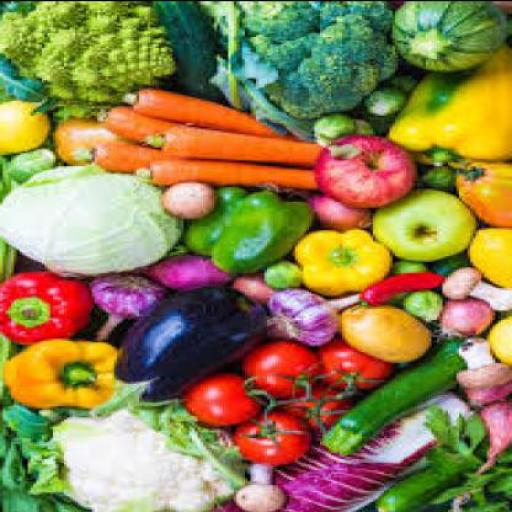biodegradable: (200, 385, 476, 510), (86, 283, 267, 416), (194, 1, 400, 117), (55, 395, 245, 508), (0, 162, 181, 274), (0, 1, 177, 113), (318, 334, 468, 454), (384, 38, 510, 166), (118, 84, 294, 138), (0, 400, 84, 510), (423, 405, 509, 511), (0, 336, 117, 410), (386, 1, 511, 70), (208, 188, 310, 270), (370, 185, 473, 259), (314, 131, 415, 205), (142, 124, 317, 166), (146, 1, 220, 100), (289, 225, 393, 293), (448, 400, 510, 510), (0, 267, 90, 342), (258, 287, 360, 343), (256, 180, 370, 229), (336, 302, 432, 360), (83, 270, 164, 338), (131, 158, 315, 187), (373, 456, 470, 510), (167, 184, 242, 253), (240, 337, 314, 394), (228, 409, 309, 461), (67, 141, 206, 170), (450, 158, 510, 225), (130, 250, 236, 287), (348, 270, 445, 310), (312, 338, 392, 386), (89, 103, 184, 143), (181, 372, 256, 422), (50, 113, 122, 165), (223, 24, 278, 84), (390, 257, 440, 319), (448, 334, 510, 382), (442, 264, 509, 308), (462, 225, 509, 287), (278, 386, 348, 426), (0, 98, 48, 156), (230, 461, 284, 510), (220, 2, 242, 105), (158, 178, 212, 216), (437, 296, 490, 334), (0, 238, 11, 414), (314, 116, 370, 148), (226, 272, 272, 300), (482, 313, 509, 360), (358, 85, 400, 114), (426, 249, 472, 274), (309, 110, 351, 137), (261, 258, 301, 286), (462, 383, 509, 405), (420, 163, 448, 184), (384, 71, 412, 90)
